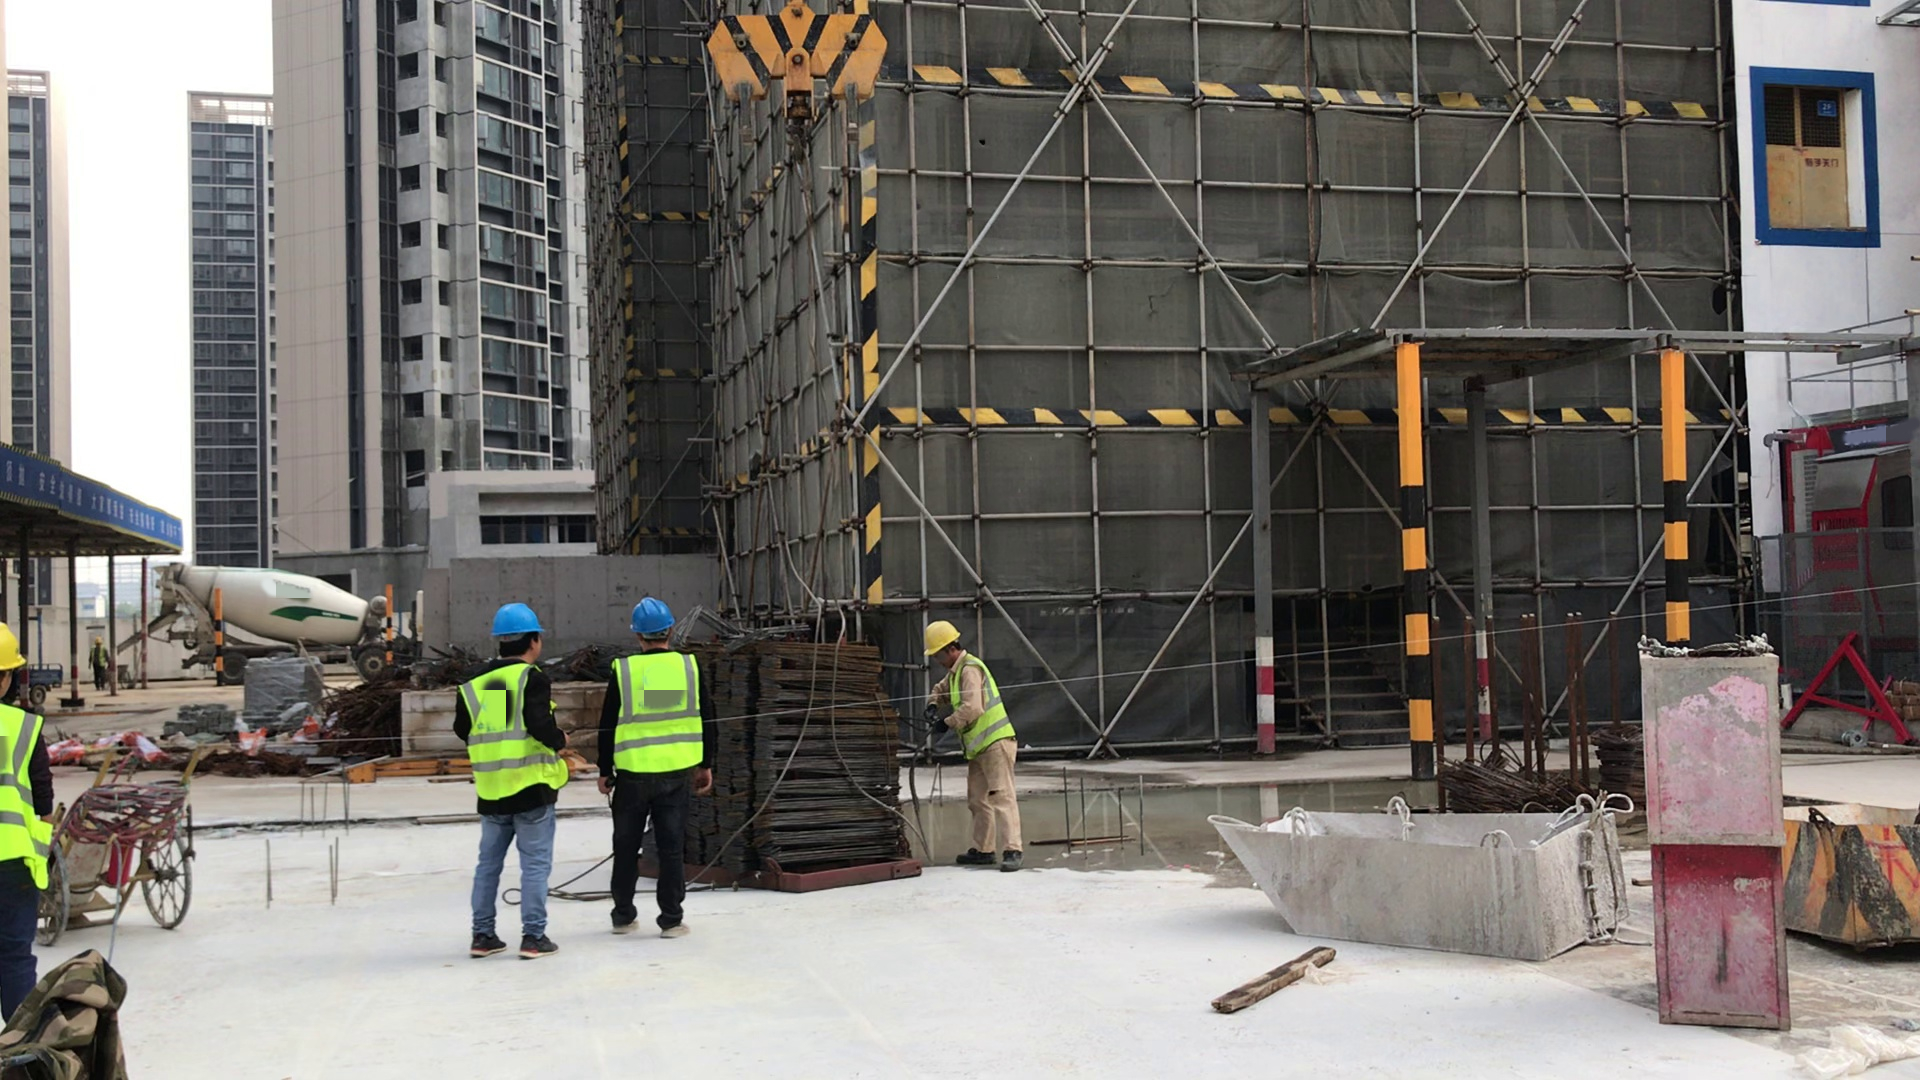handcart: (54, 738, 218, 931), (117, 661, 134, 688)
helmet: (488, 603, 545, 644), (629, 597, 672, 636), (925, 621, 961, 655), (1, 627, 26, 669), (93, 636, 103, 645)
hook: (703, 4, 892, 138)
hopper: (1210, 795, 1643, 952), (1778, 790, 1920, 963)
person: (449, 602, 572, 964), (597, 592, 718, 938), (921, 619, 1028, 874), (1, 620, 60, 980), (87, 636, 110, 693)
slogan: (1, 439, 185, 550)
vest: (465, 663, 570, 799), (610, 650, 704, 774), (1, 702, 54, 894), (949, 660, 1017, 755), (87, 646, 107, 670)
